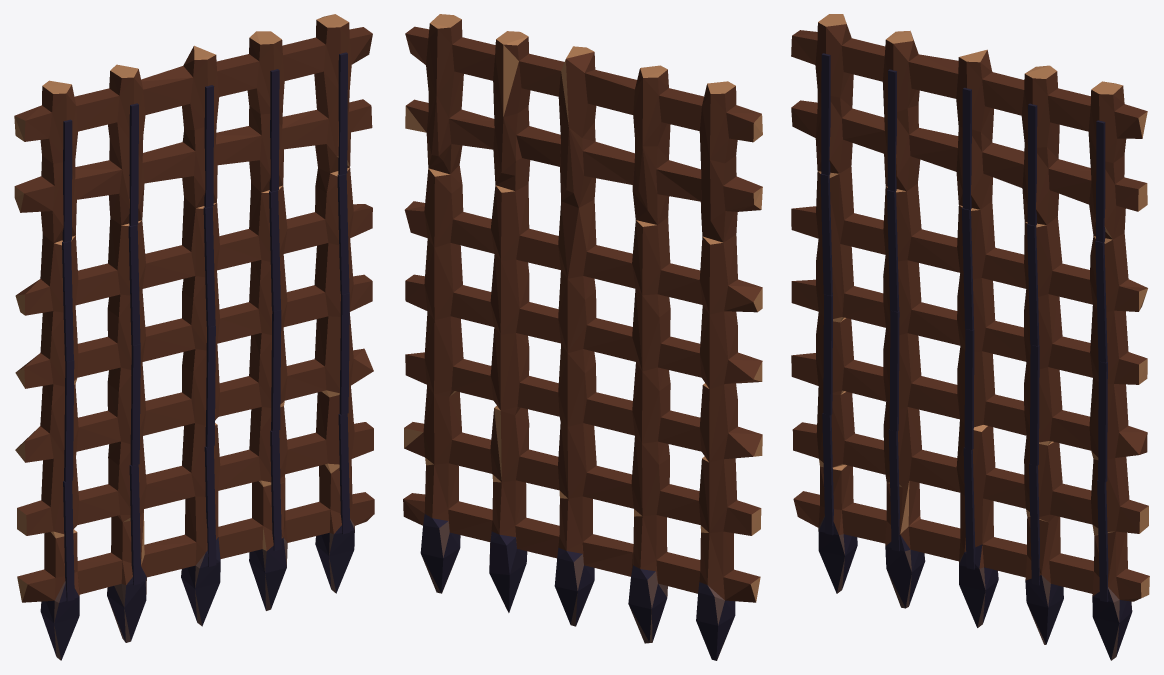
Rendered from MCastle_Gates_01.FBX.
The picture shows the model from 3 angles, left to right: view 1: azimuth 30°, elevation 25°; view 2: azimuth 150°, elevation 25°; view 3: azimuth 330°, elevation 25°; orthographic projection.
Parts seen in each view (by area): view 1: MCastle_Gates_01_LOD0; view 2: MCastle_Gates_01_LOD0; view 3: MCastle_Gates_01_LOD0.
Part boxes in pixels (x1,y1,x2,y2): MCastle_Gates_01_LOD0: (14, 14, 374, 660); MCastle_Gates_01_LOD0: (403, 14, 762, 660); MCastle_Gates_01_LOD0: (791, 14, 1149, 660).
Size of what is drawn, in the model's own units: 3.24 by 5.07 by 0.3219.
